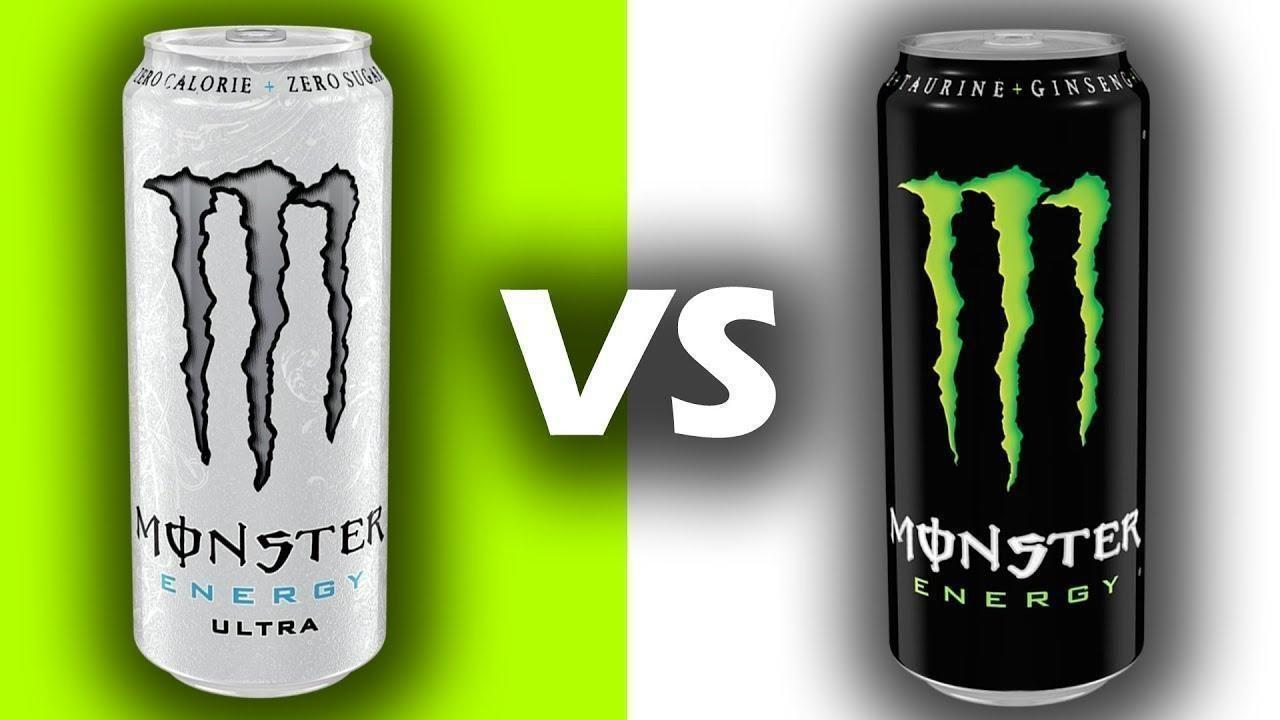tin can: (872, 23, 1153, 705), (120, 17, 396, 702)
